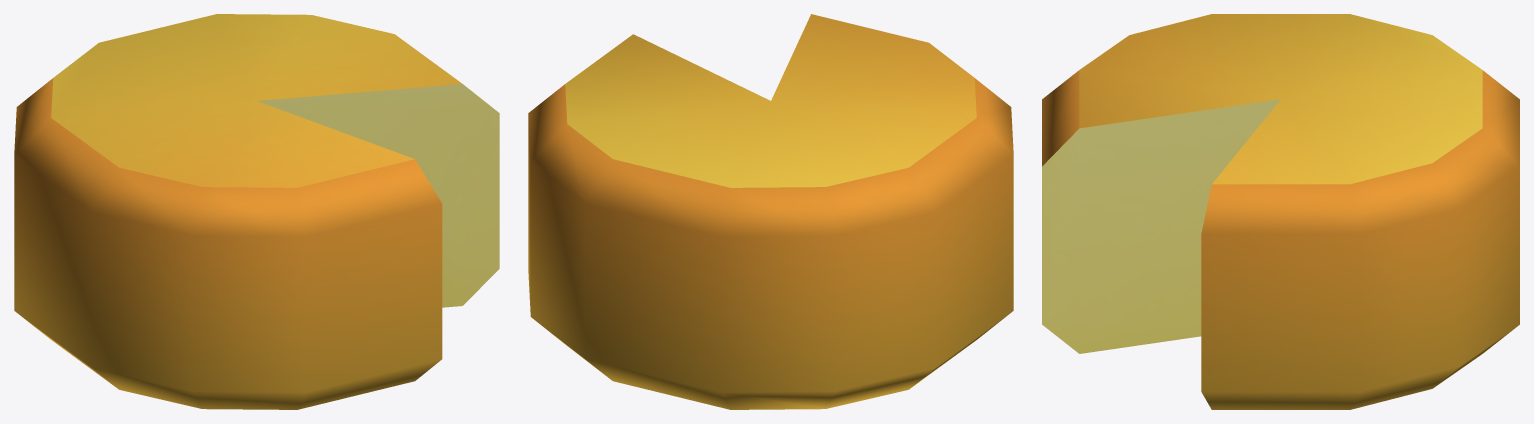
File: cheese_wheel_yellow.fbx
3 renders of one model, left to right at view 1: azimuth 30°, elevation 25°; view 2: azimuth 150°, elevation 25°; view 3: azimuth 270°, elevation 25°, orthographic.
Parts seen in each view (by area): view 1: cheese_wheel_yellow; view 2: cheese_wheel_yellow; view 3: cheese_wheel_yellow.
Part boxes in pixels (x1,y1,x2,y2): cheese_wheel_yellow: (14, 14, 499, 409); cheese_wheel_yellow: (528, 14, 1013, 409); cheese_wheel_yellow: (1042, 14, 1519, 409).
Bounding box in the file's own units: 33.93 × 17.68 × 33.93.
